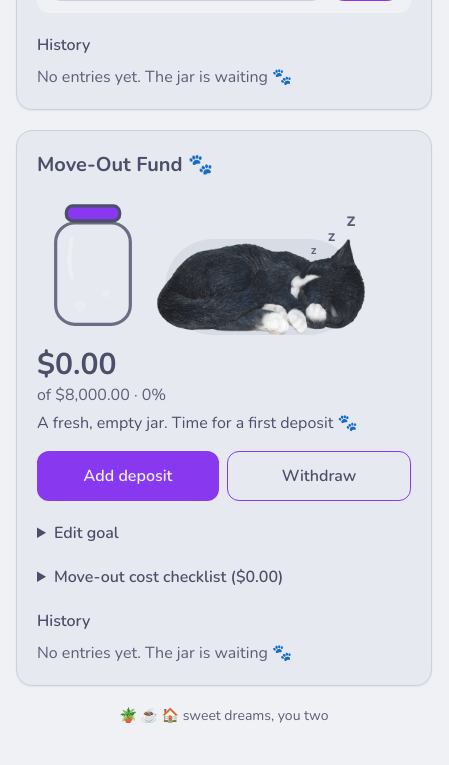
Test: dashboard › edits target and date from the goal form
(page scrolled)
Click the heading "Edit goal" at {"x": 86, "y": 533}, box [54, 522, 119, 544]
(page scrolled)
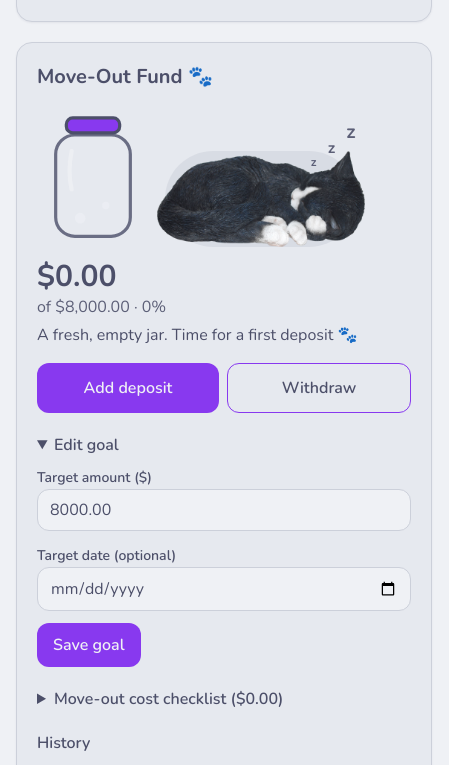
Replace the text in the field labelled "Target amount ($)" with "5000" at {"x": 224, "y": 510}, box [37, 489, 411, 531]
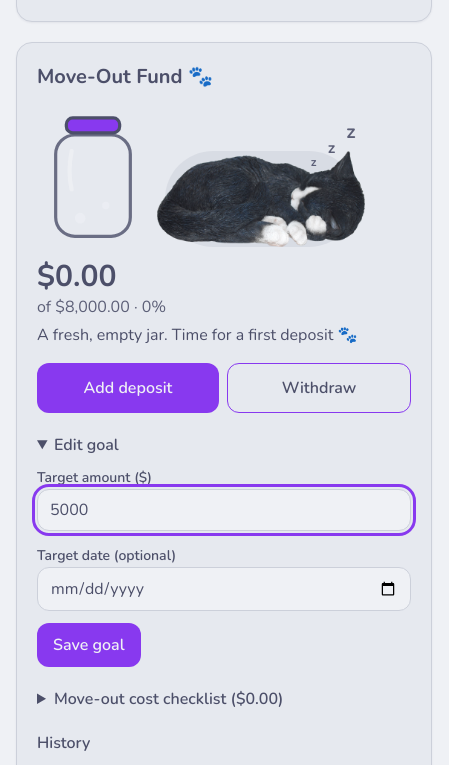
Click the button "Save goal" at {"x": 89, "y": 645}, box [37, 623, 140, 667]
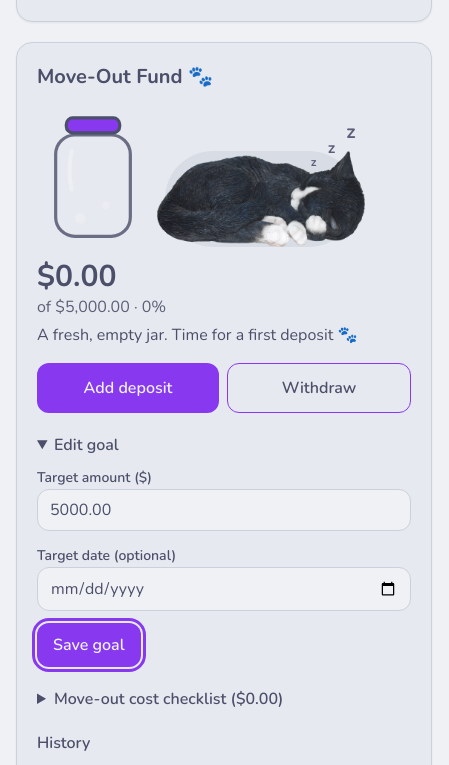
Expected: the text "of $5,000.00 · 0%" is shown, [37, 296, 166, 318]
